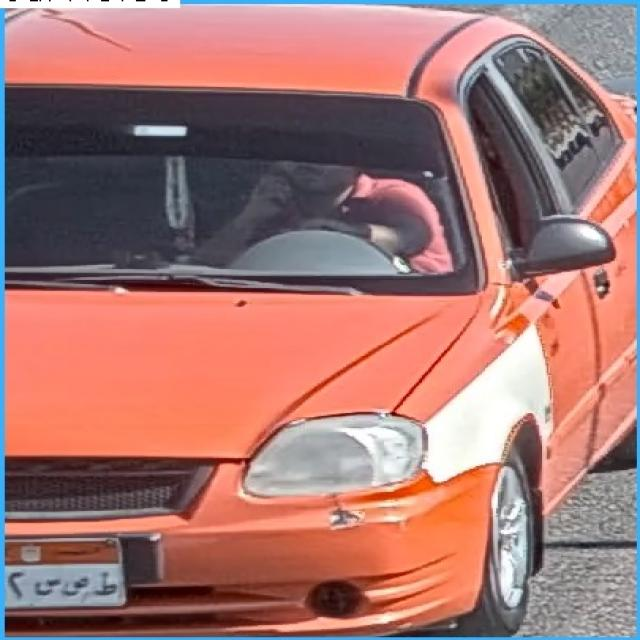windshield: (11, 82, 496, 286)
